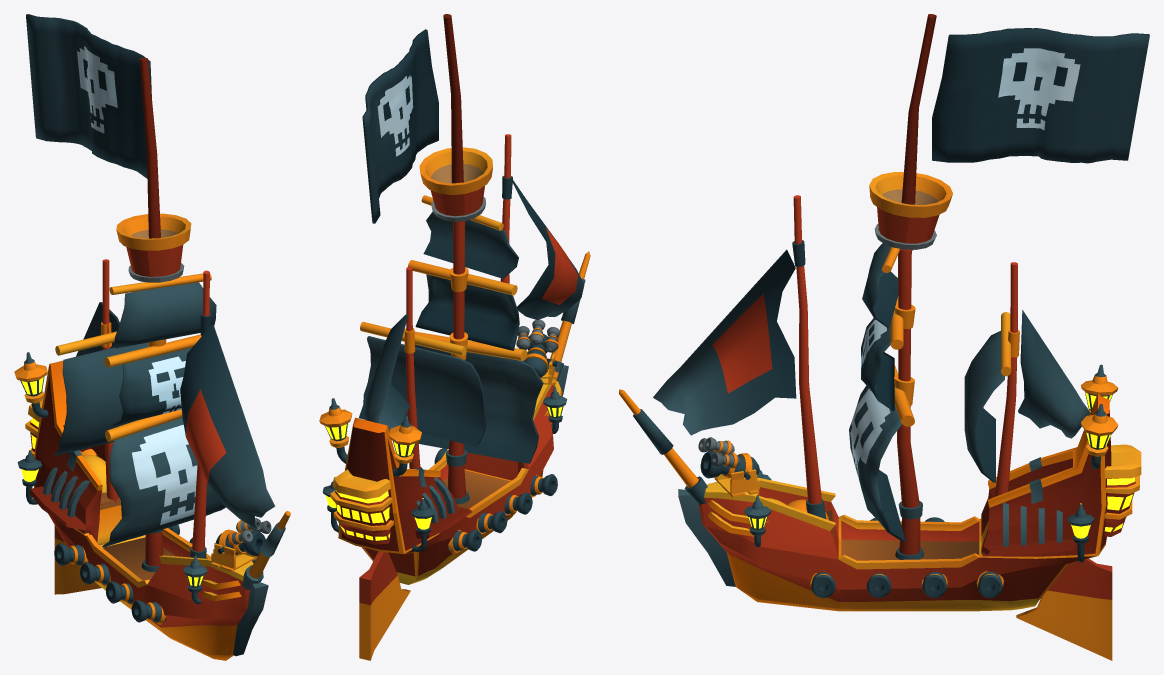
The model's file is galleon.glb.
3 views of the same model, side by side, from view 1: azimuth 30°, elevation 25°; view 2: azimuth 150°, elevation 25°; view 3: azimuth 270°, elevation 25° (orthographic). The views are drawn at different scales.
Parts seen in each view (by area): view 1: hull, flag, jib_sail, galleon_mainsail, mainmast, back_sail, galleon_moonsail, galleon_roaylsail, hull_canons, front_cannon, foremast, stern_lamp_upper_R (+13 smaller); view 2: hull, mainmast, flag, back_sail, galleon_mainsail, galleon_roaylsail, captain_cabin, galleon_moonsail, jib_sail, rudder, spankersail, hull_canons (+12 smaller); view 3: hull, flag, jib_sail, mainmast, rudder, galleon_mainsail, spankersail, back_sail, foremast, captain_cabin, front_cannon, galleon_roaylsail (+8 smaller).
Boxes of the visible parts, x1,y1,x2,y2 form: hull: [30, 360, 268, 660]; flag: [26, 14, 151, 178]; jib_sail: [180, 324, 275, 529]; galleon_mainsail: [102, 417, 225, 547]; mainmast: [116, 57, 191, 572]; back_sail: [54, 342, 148, 455]; galleon_moonsail: [114, 282, 216, 348]; galleon_roaylsail: [111, 347, 191, 426]; hull_canons: [54, 524, 205, 624]; front_cannon: [210, 518, 271, 571]; foremast: [190, 270, 211, 558]; stern_lamp_upper_R: [14, 352, 48, 417]; hull: [338, 365, 568, 584]; mainmast: [419, 14, 492, 504]; flag: [362, 29, 438, 223]; back_sail: [359, 336, 486, 446]; galleon_mainsail: [415, 344, 543, 463]; galleon_roaylsail: [415, 274, 519, 350]; captain_cabin: [330, 469, 393, 544]; galleon_moonsail: [423, 211, 518, 278]; jib_sail: [512, 180, 584, 320]; rudder: [359, 551, 410, 660]; spankersail: [364, 314, 410, 431]; hull_canons: [420, 448, 557, 553]; hull: [678, 393, 1111, 611]; flag: [932, 28, 1149, 163]; jib_sail: [653, 249, 796, 435]; mainmast: [869, 14, 952, 559]; rudder: [1016, 558, 1112, 660]; galleon_mainsail: [849, 385, 905, 541]; spankersail: [1018, 310, 1089, 438]; back_sail: [964, 331, 1004, 482]; foremast: [792, 195, 826, 518]; captain_cabin: [1104, 444, 1141, 536]; front_cannon: [698, 437, 760, 497]; galleon_roaylsail: [861, 318, 894, 410].
Size of the model in its own units: 6.16 by 26.14 by 19.59.
Materials: 2 (1 with a texture image).
